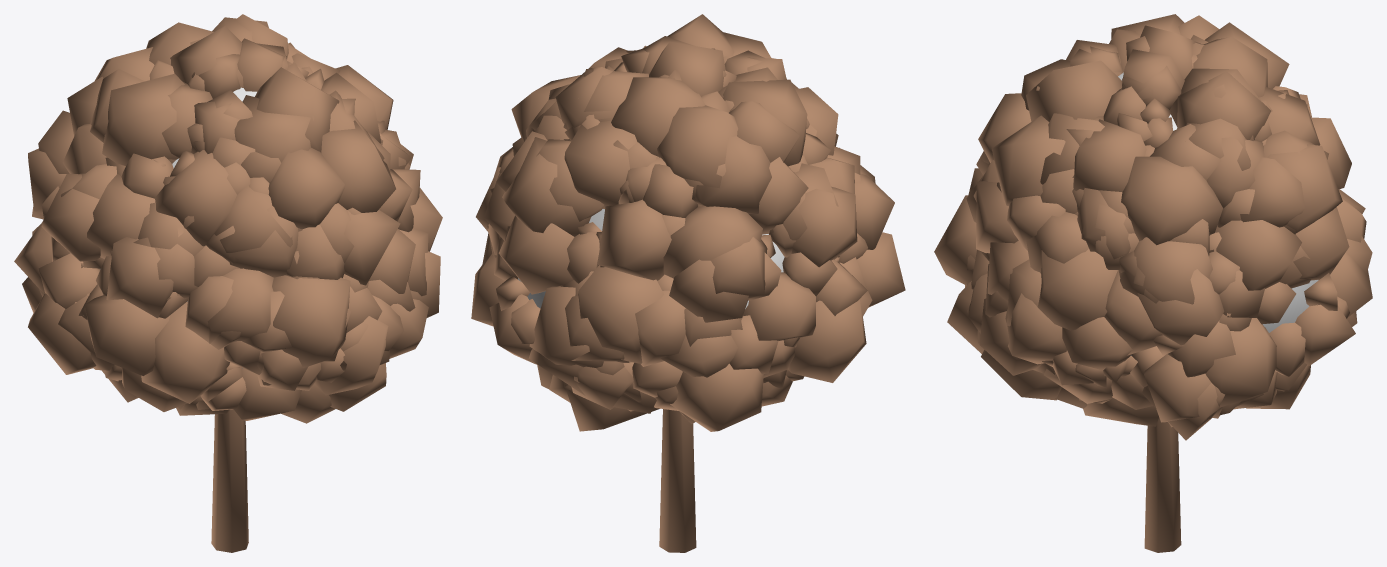
The model's file is tree1.fbx.
The picture shows the model from 3 angles, left to right: view 1: azimuth 30°, elevation 25°; view 2: azimuth 150°, elevation 25°; view 3: azimuth 270°, elevation 25°; orthographic projection.
Visible parts, largest first — view 1: Cylinder.008; view 2: Cylinder.008; view 3: Cylinder.008.
Part boxes in pixels (bbox=[...]): Cylinder.008: bbox=[14, 14, 442, 552]; Cylinder.008: bbox=[471, 14, 905, 552]; Cylinder.008: bbox=[934, 14, 1372, 552].
Size of the model in its own units: 458 by 589 by 457.
